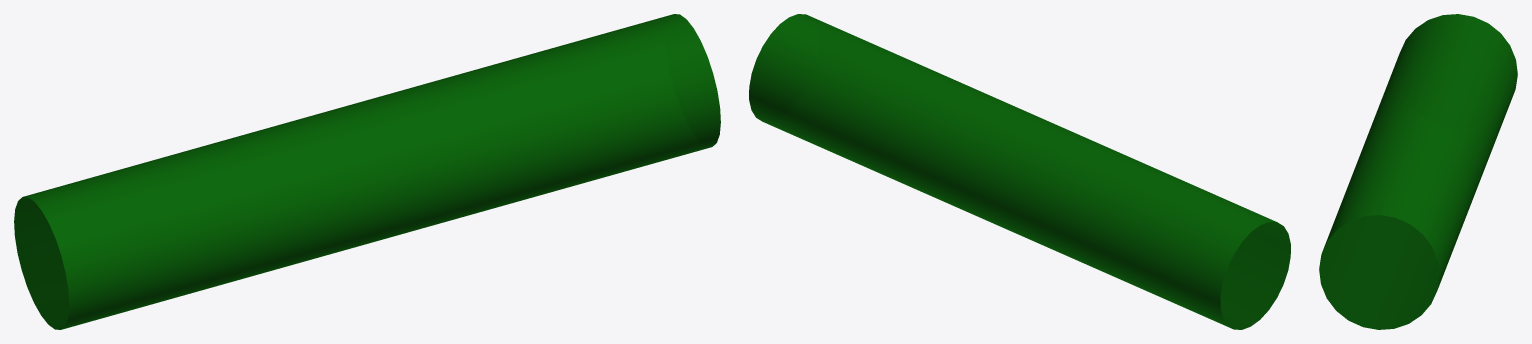
Rendered from Event_421364160_jet_4.fbx.
3 views of the same model, side by side, from view 1: azimuth 30°, elevation 25°; view 2: azimuth 150°, elevation 25°; view 3: azimuth 270°, elevation 25° (orthographic). The views are drawn at different scales.
Parts seen in each view (by area): view 1: Model; view 2: Model; view 3: Model.
Part boxes in pixels (<box>): Model: <box>14,14,720,329</box>; Model: <box>749,14,1290,329</box>; Model: <box>1319,14,1517,329</box>.
Bounding box in the file's own units: 0.209 × 0.0613 × 0.0654.
